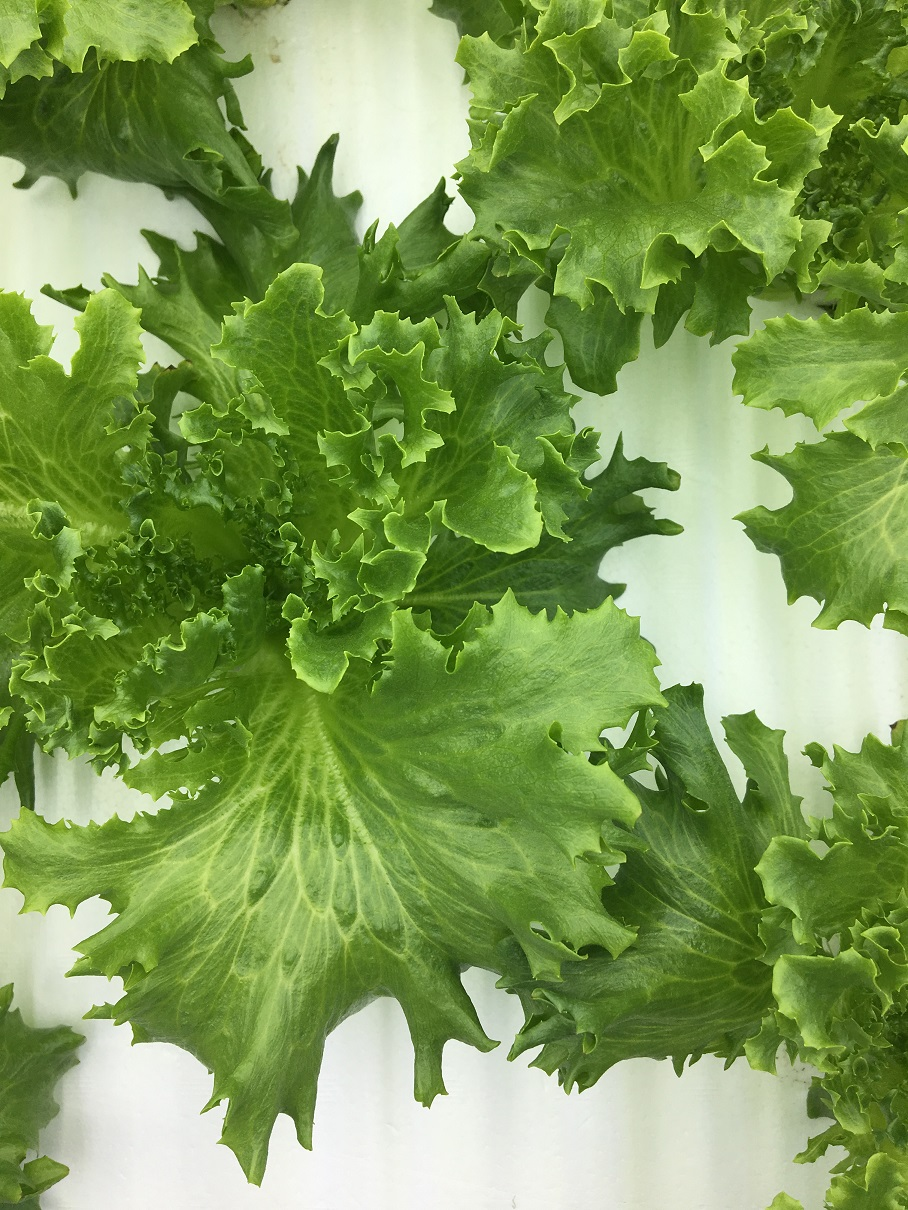tipburn: (158, 351, 197, 382)
